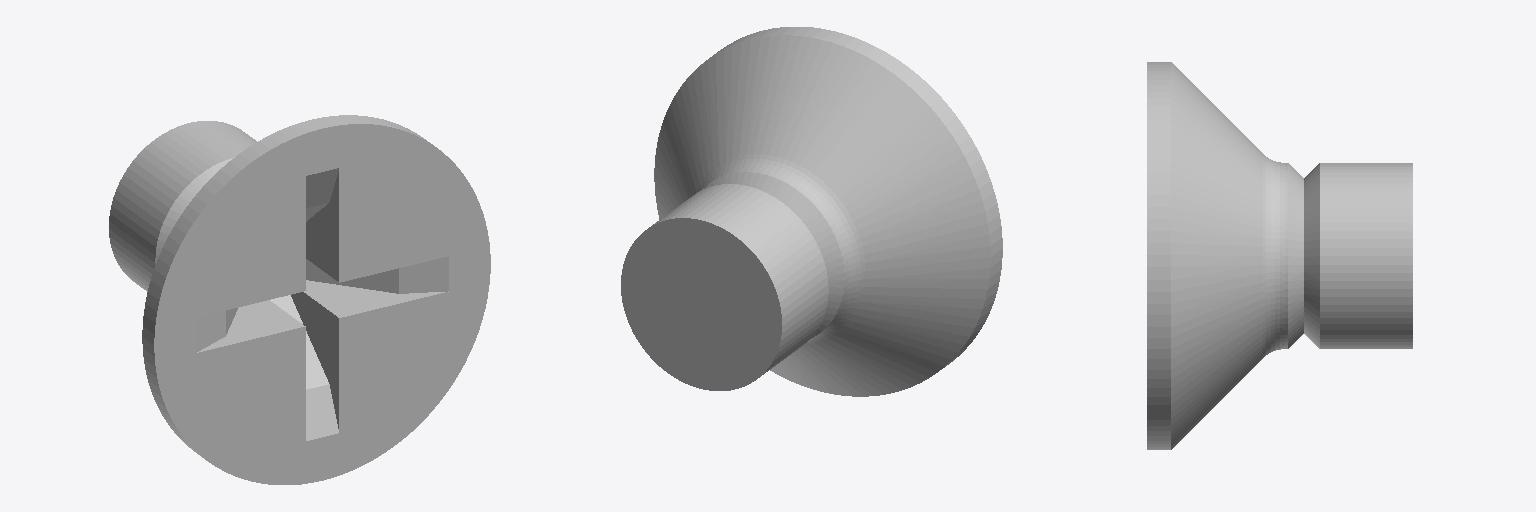
The model's file is case_ISO 7046-2 H - M3.5x5 - 8.8 - H1_2.obj.
The picture shows the model from 3 angles: view 1: azimuth 30°, elevation 25°; view 2: azimuth 150°, elevation 25°; view 3: azimuth 270°, elevation 25°; orthographic projection.
Parts seen in each view (by area): view 1: Solid1:6; view 2: Solid1:6; view 3: Solid1:6.
Boxes of the visible parts, x1=… form: Solid1:6: x1=109, y1=115, x2=490, y2=484; Solid1:6: x1=621, y1=27, x2=1002, y2=396; Solid1:6: x1=1147, y1=62, x2=1412, y2=449.
Bounding box in the file's own units: 0.0073 × 0.0073 × 0.005.